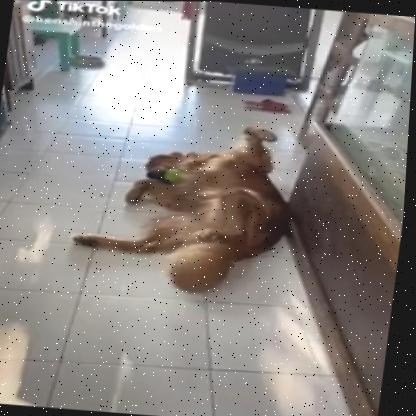dog: (64, 112, 313, 300)
